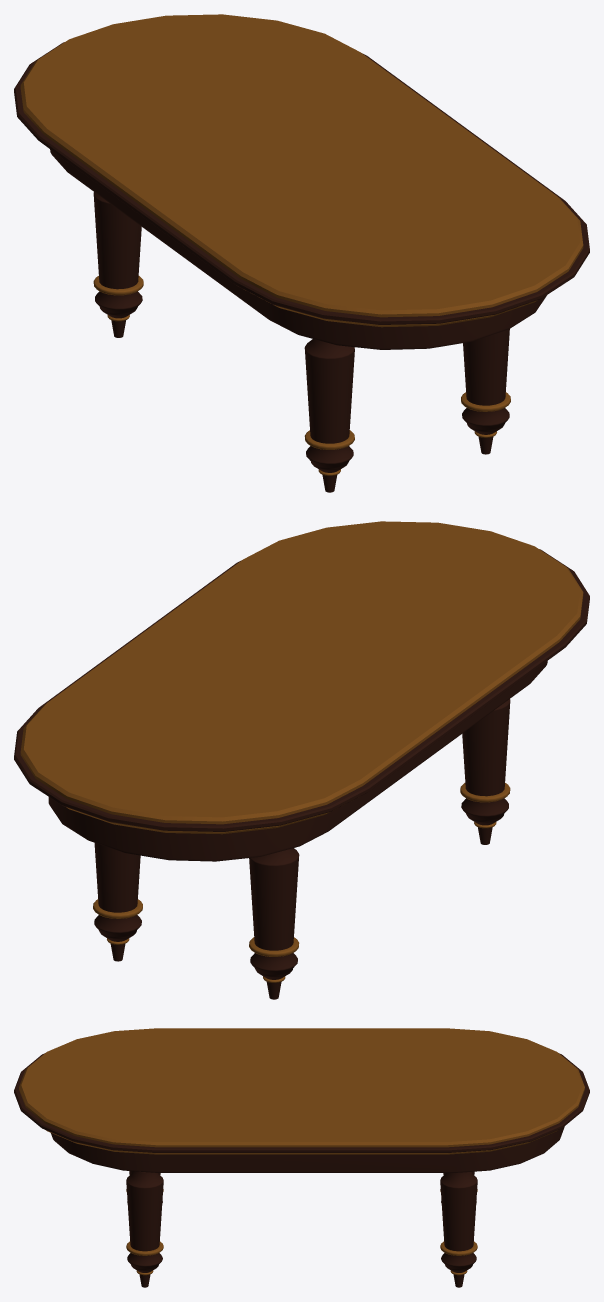
Rendered from dining room table.obj.
3 renders of one model, top to bottom at view 1: azimuth 30°, elevation 25°; view 2: azimuth 150°, elevation 25°; view 3: azimuth 270°, elevation 25°, orthographic. The views are drawn at different scales.
Parts seen in each view (by area): view 1: polySurface38; view 2: polySurface38; view 3: polySurface38.
Part boxes in pixels (box(x1,y1,x2,y2)): polySurface38: box(14, 14, 589, 492); polySurface38: box(14, 521, 589, 999); polySurface38: box(14, 1028, 589, 1287).
Size of the model in its own units: 118 by 78.99 by 239.
